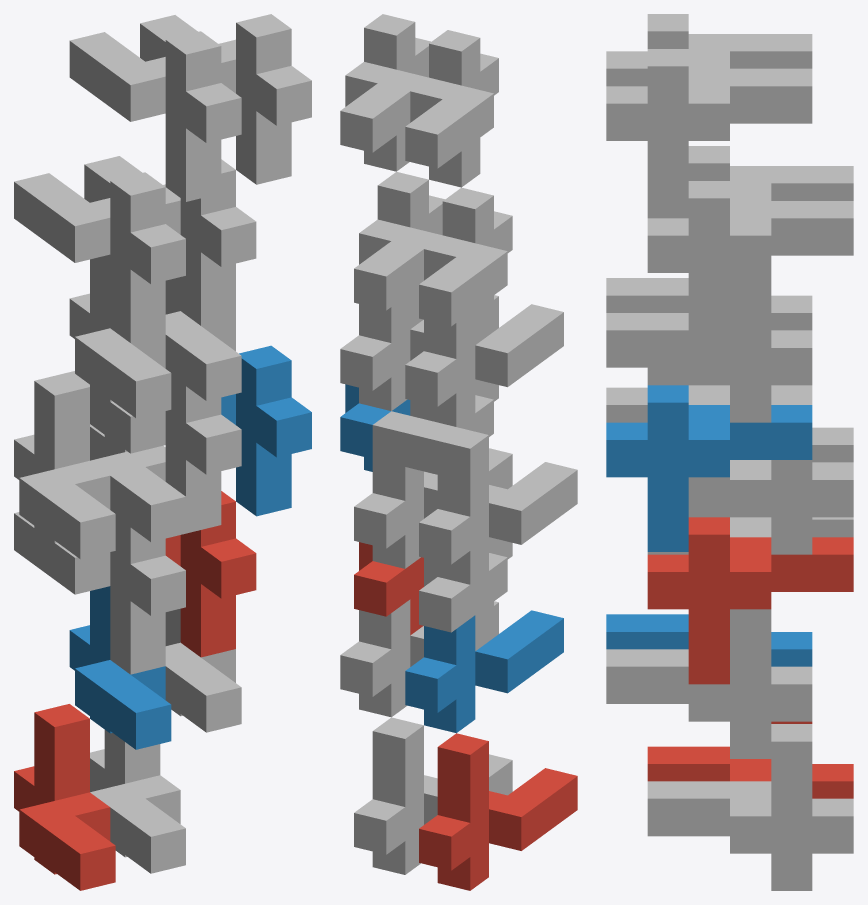
The model's file is tiling.obj.
3 views of the same model, side by side, from view 1: azimuth 30°, elevation 25°; view 2: azimuth 150°, elevation 25°; view 3: azimuth 270°, elevation 25° (orthographic). The views are drawn at different scales.
Visible parts, largest first — view 1: copy_2_domain_4, copy_2_domain_3, copy_1_domain_1, copy_1_domain_3, copy_2_domain_1, copy_2_domain_8, copy_2_domain_2, copy_2_domain_7, copy_2_domain_6, copy_1_domain_5, copy_1_domain_4, copy_1_domain_2 (+4 smaller); view 2: copy_1_domain_3, copy_1_domain_1, copy_1_domain_4, copy_1_domain_2, copy_2_domain_4, copy_2_domain_3, copy_1_domain_5, copy_2_domain_8, copy_1_domain_7, copy_2_domain_7, copy_1_domain_8, copy_1_domain_6 (+4 smaller); view 3: copy_1_domain_5, copy_2_domain_8, copy_2_domain_7, copy_2_domain_5, copy_2_domain_6, copy_1_domain_6, copy_1_domain_8, copy_1_domain_7, copy_2_domain_4, copy_2_domain_3, copy_1_domain_1, copy_1_domain_2 (+4 smaller).
Boxes of the visible parts, <box> form: copy_2_domain_4: <box>69,31,241,201</box>; copy_2_domain_3: <box>14,172,185,342</box>; copy_1_domain_1: <box>14,704,115,890</box>; copy_1_domain_3: <box>14,372,115,559</box>; copy_2_domain_1: <box>14,512,185,674</box>; copy_2_domain_8: <box>140,14,311,184</box>; copy_2_domain_2: <box>70,371,241,533</box>; copy_2_domain_7: <box>84,156,256,325</box>; copy_2_domain_6: <box>221,345,311,516</box>; copy_1_domain_5: <box>90,730,185,873</box>; copy_1_domain_4: <box>69,254,171,418</box>; copy_1_domain_2: <box>69,586,171,749</box>; copy_1_domain_3: <box>419,427,577,584</box>; copy_1_domain_1: <box>419,733,577,890</box>; copy_1_domain_4: <box>405,304,563,426</box>; copy_1_domain_2: <box>405,610,563,733</box>; copy_2_domain_4: <box>405,30,498,187</box>; copy_2_domain_3: <box>419,187,512,344</box>; copy_1_domain_5: <box>354,717,512,874</box>; copy_2_domain_8: <box>340,14,430,171</box>; copy_1_domain_7: <box>354,411,512,568</box>; copy_2_domain_7: <box>354,171,444,328</box>; copy_1_domain_8: <box>340,293,498,411</box>; copy_1_domain_6: <box>340,599,498,717</box>; copy_1_domain_5: <box>647,724,853,890</box>; copy_2_domain_8: <box>606,49,812,215</box>; copy_2_domain_7: <box>647,181,853,347</box>; copy_2_domain_5: <box>647,517,853,684</box>; copy_2_domain_6: <box>606,385,812,551</box>; copy_1_domain_6: <box>606,609,812,758</box>; copy_1_domain_8: <box>606,273,812,422</box>; copy_1_domain_7: <box>688,387,853,554</box>; copy_2_domain_4: <box>606,14,812,86</box>; copy_2_domain_3: <box>647,146,853,218</box>; copy_1_domain_1: <box>647,721,853,798</box>; copy_1_domain_2: <box>606,614,812,666</box>.
Size of the model in its own units: 6 by 23 by 6.
